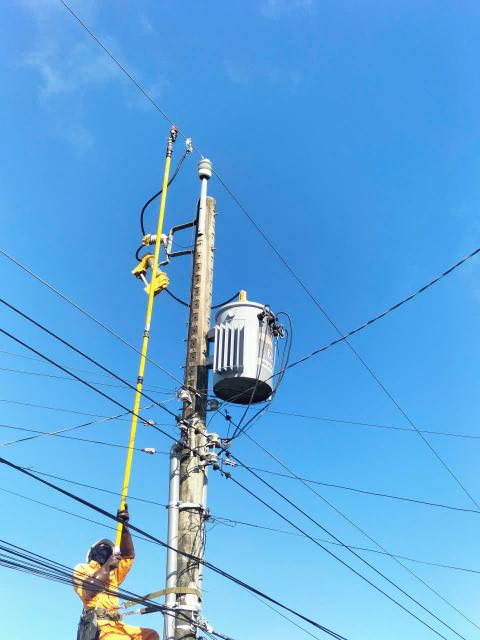gloves: (77, 550, 130, 598), (115, 504, 145, 565)
harness: (76, 601, 148, 624)
helmet: (76, 533, 118, 559)
